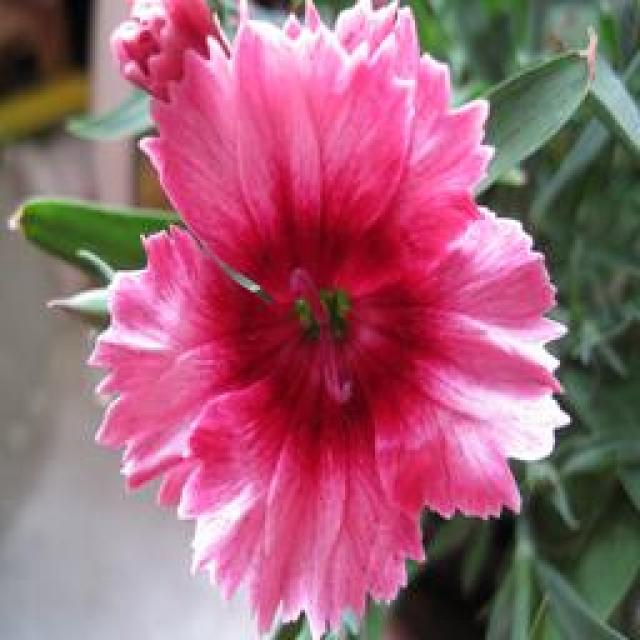carnation: (61, 9, 586, 636)
